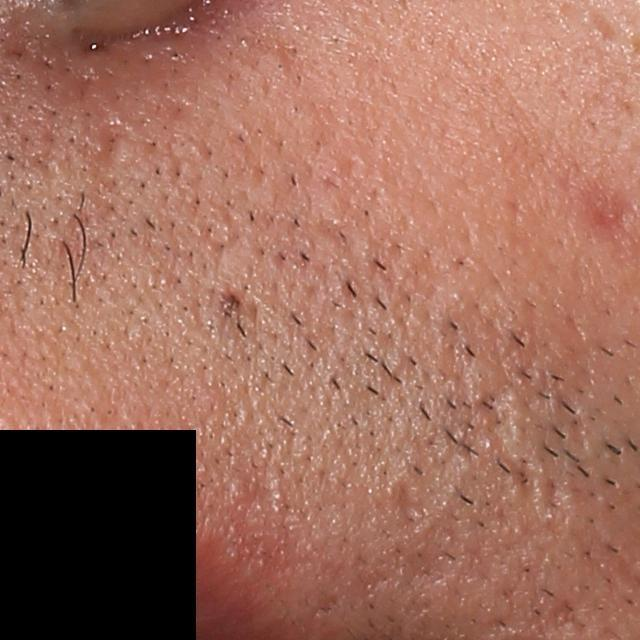atrophic_scar: (53, 124, 144, 281), (471, 380, 536, 497), (412, 536, 480, 597), (390, 476, 430, 530)
nevus: (220, 288, 247, 315)
